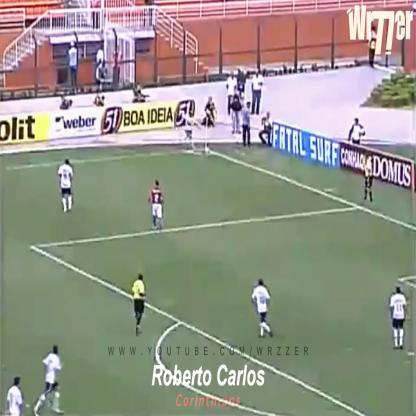corner kick: (166, 84, 223, 192)
